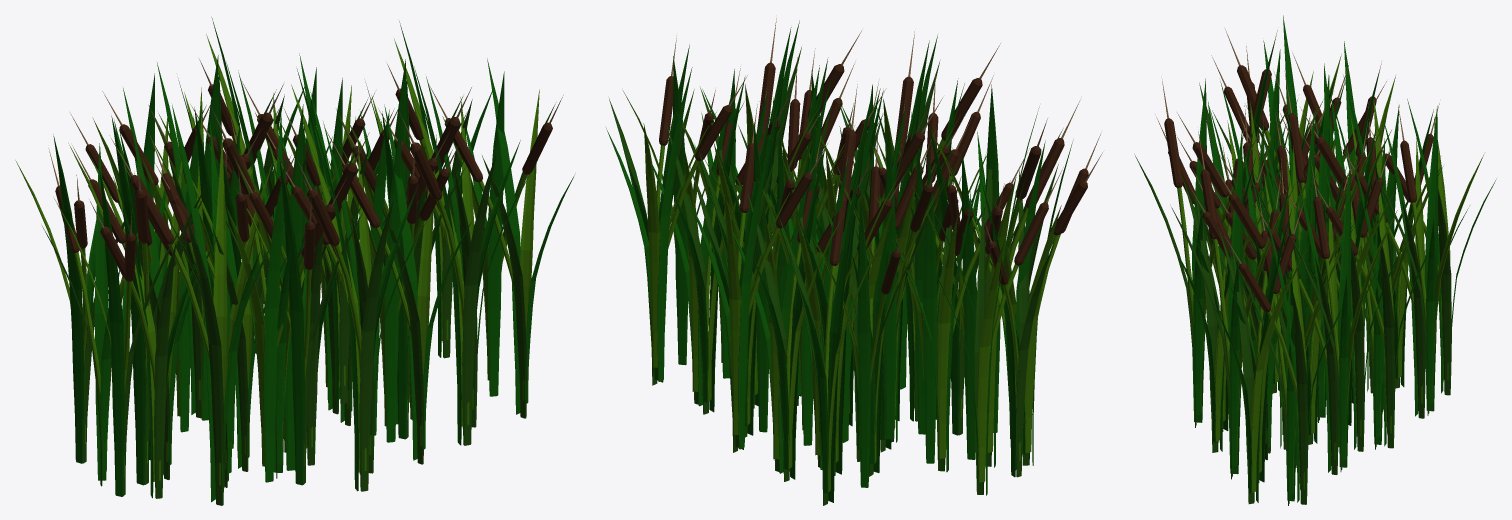
File: Plants1_V1.0.fbx
3 views of the same model, side by side, from view 1: azimuth 30°, elevation 25°; view 2: azimuth 150°, elevation 25°; view 3: azimuth 270°, elevation 25° (orthographic). The views are drawn at different scales.
Visible parts, largest first — view 1: Hotdog Plant.051; view 2: Hotdog Plant.051; view 3: Hotdog Plant.051.
Boxes of the visible parts, x1,y1,x2,y2 form: Hotdog Plant.051: [15, 17, 574, 505]; Hotdog Plant.051: [606, 18, 1102, 505]; Hotdog Plant.051: [1134, 15, 1496, 505].
Size of the model in its own units: 10635 by 8301 by 7997.
